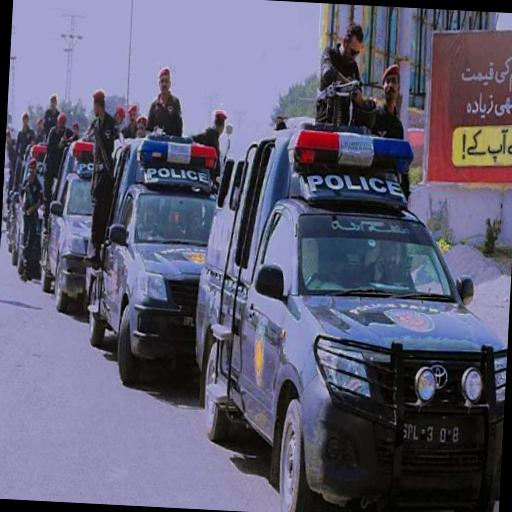Ambulance: (189, 123, 509, 512), (89, 136, 232, 382)
